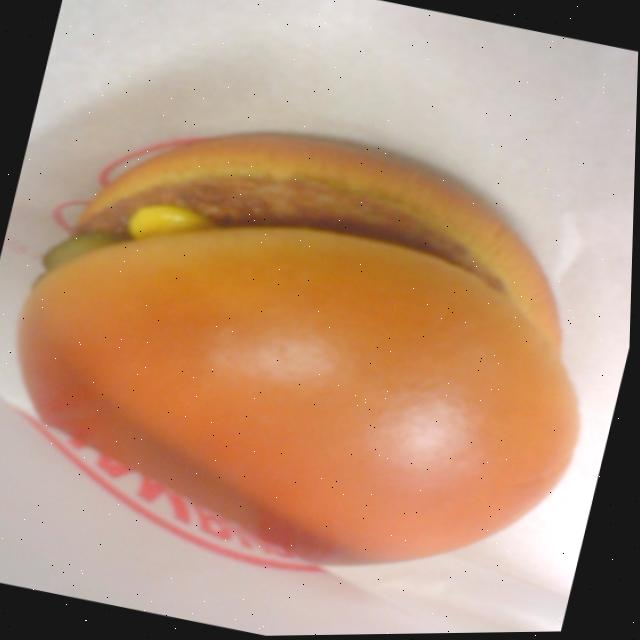汉堡快餐: (0, 80, 638, 619)
